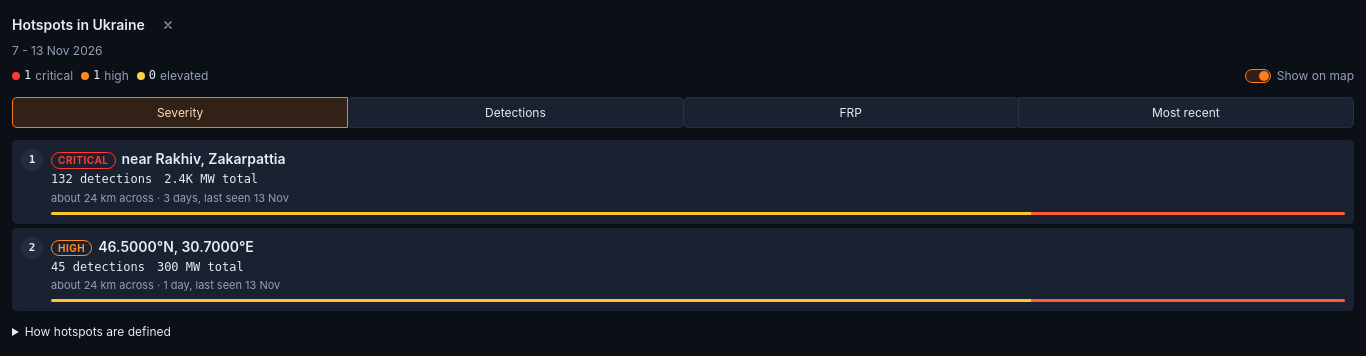
Scenario: HotspotsPanel › shows the selected place and clears it
Expected: the heading "Hotspots in Ukraine" is shown, [12,15,145,35]
Expected: the button that starts with "critical" shows "near Rakhiv, Zakarpattia", [12,140,1354,224]
Click the button named "clear ukraine" at (168, 25), box [149,12,187,38]
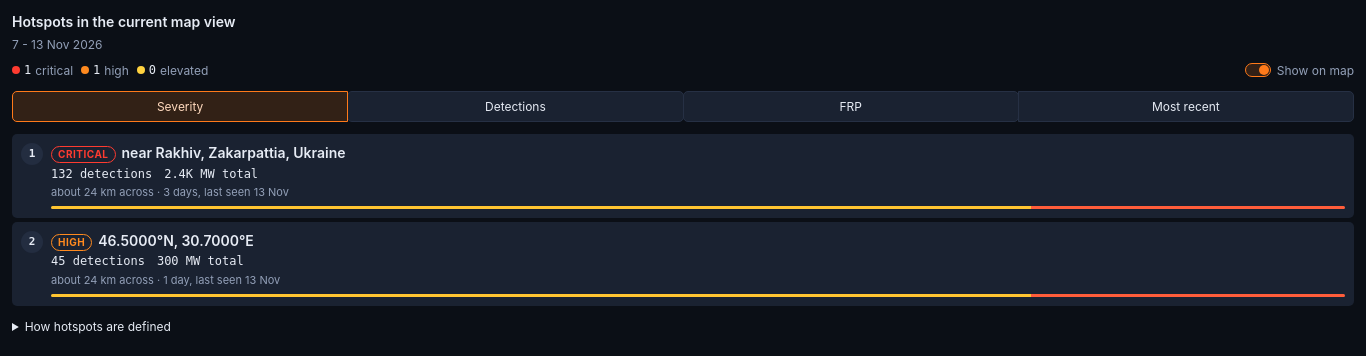
Now the heading "Hotspots in the current map view" is shown, box [12,12,236,32]
